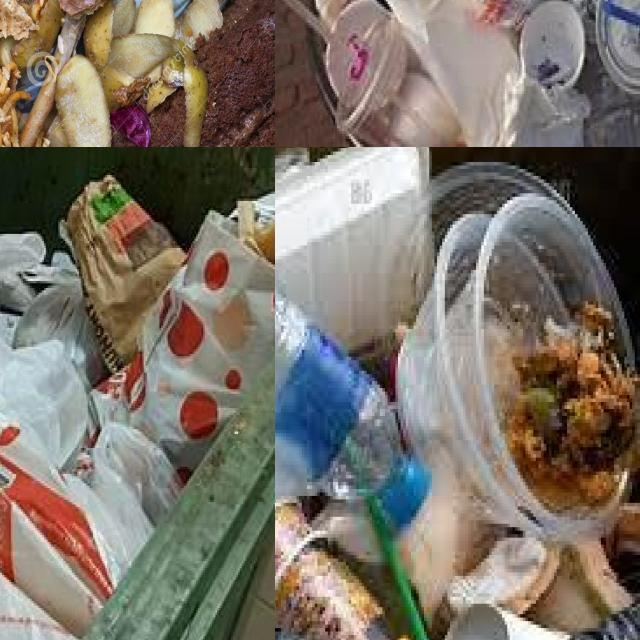Disposable: (398, 164, 633, 541), (275, 147, 434, 350), (275, 499, 391, 640), (326, 0, 409, 133), (596, 0, 640, 96), (496, 611, 567, 640)
Garbage: (275, 147, 640, 640), (0, 177, 275, 640), (296, 0, 640, 147)
Plastic_Bag: (0, 196, 275, 640)
Plastic_Container: (376, 67, 461, 147)
Plastic_Straw: (366, 496, 430, 640), (282, 0, 330, 43)
Plastic_bottle: (275, 296, 431, 527)
